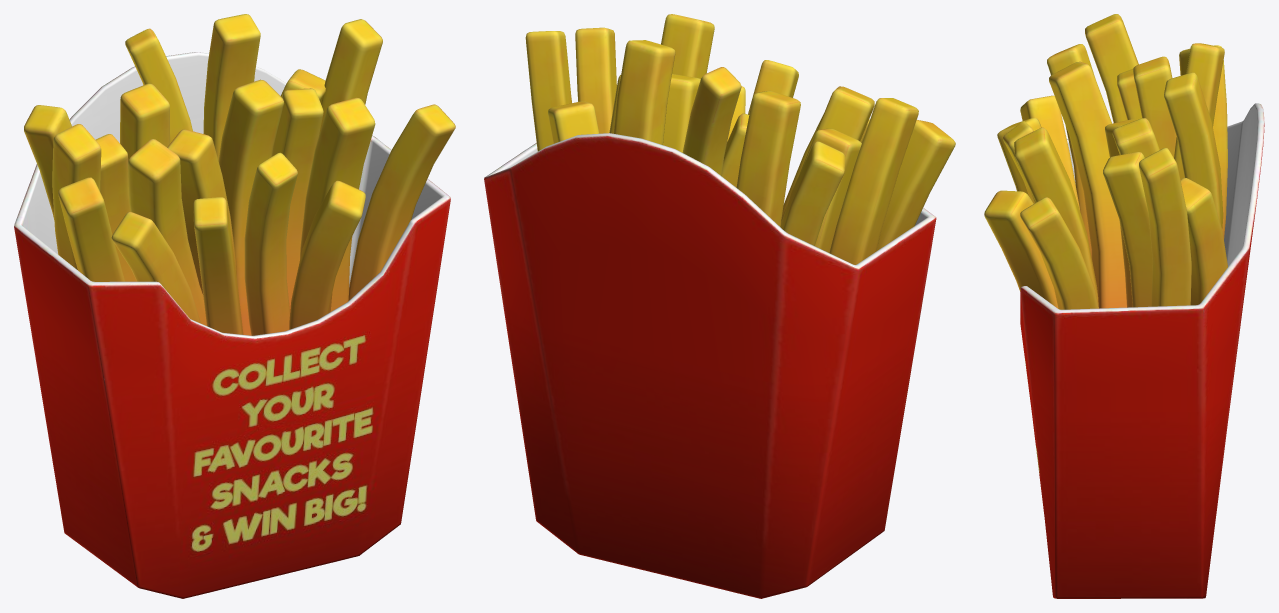
File: prop_Fries.glb
The picture shows the model from 3 angles, left to right: view 1: azimuth 30°, elevation 25°; view 2: azimuth 150°, elevation 25°; view 3: azimuth 270°, elevation 25°; orthographic projection. The views are drawn at different scales.
Visible parts, largest first — view 1: friesBag, Fries_18, Fries_11, Fries_13, Fries_17, Fries_12, Fries_06, Fries_08, Fries_16, Fries_14, Fries_01, Fries_05 (+8 smaller); view 2: friesBag, Fries_02, Fries_07, Fries_14, Fries_01, Fries_10, Fries_03, Fries_19, Fries_18, Fries_17, Fries_04, Fries_06 (+4 smaller); view 3: friesBag, Fries_06, Fries_19, Fries_14, Fries_16, Fries_18, Fries_17, Fries_12, Fries_15, Fries_02, Fries_07, Fries_10 (+8 smaller).
Part boxes in pixels (x1,y1,x2,y2): friesBag: [14, 52, 450, 598]; Fries_18: [348, 104, 455, 300]; Fries_11: [244, 152, 297, 335]; Fries_13: [218, 79, 283, 335]; Fries_17: [300, 97, 375, 311]; Fries_12: [289, 180, 365, 329]; Fries_06: [128, 139, 206, 325]; Fries_08: [193, 197, 243, 334]; Fries_16: [272, 88, 323, 312]; Fries_14: [203, 14, 260, 160]; Fries_01: [58, 177, 125, 281]; Fries_05: [111, 212, 200, 323]; friesBag: [484, 133, 936, 598]; Fries_02: [829, 98, 918, 264]; Fries_07: [736, 90, 800, 226]; Fries_14: [613, 40, 675, 144]; Fries_01: [876, 120, 955, 251]; Fries_10: [682, 67, 741, 176]; Fries_03: [780, 141, 845, 245]; Fries_19: [525, 31, 571, 151]; Fries_18: [575, 27, 616, 133]; Fries_17: [661, 14, 714, 79]; Fries_04: [809, 128, 861, 252]; Fries_06: [781, 86, 874, 223]; friesBag: [1020, 103, 1264, 598]; Fries_06: [1049, 61, 1126, 308]; Fries_19: [1139, 148, 1191, 306]; Fries_14: [1164, 72, 1223, 228]; Fries_16: [1103, 152, 1152, 307]; Fries_18: [1020, 197, 1098, 309]; Fries_17: [1014, 127, 1098, 304]; Fries_12: [984, 190, 1058, 308]; Fries_15: [1180, 177, 1227, 305]; Fries_02: [1085, 14, 1138, 123]; Fries_07: [1133, 56, 1176, 157]; Fries_10: [1174, 43, 1224, 179].
Bounding box in the file's own units: 0.1735 × 0.2179 × 0.1125.
Materials: 2 (2 with a texture image).
